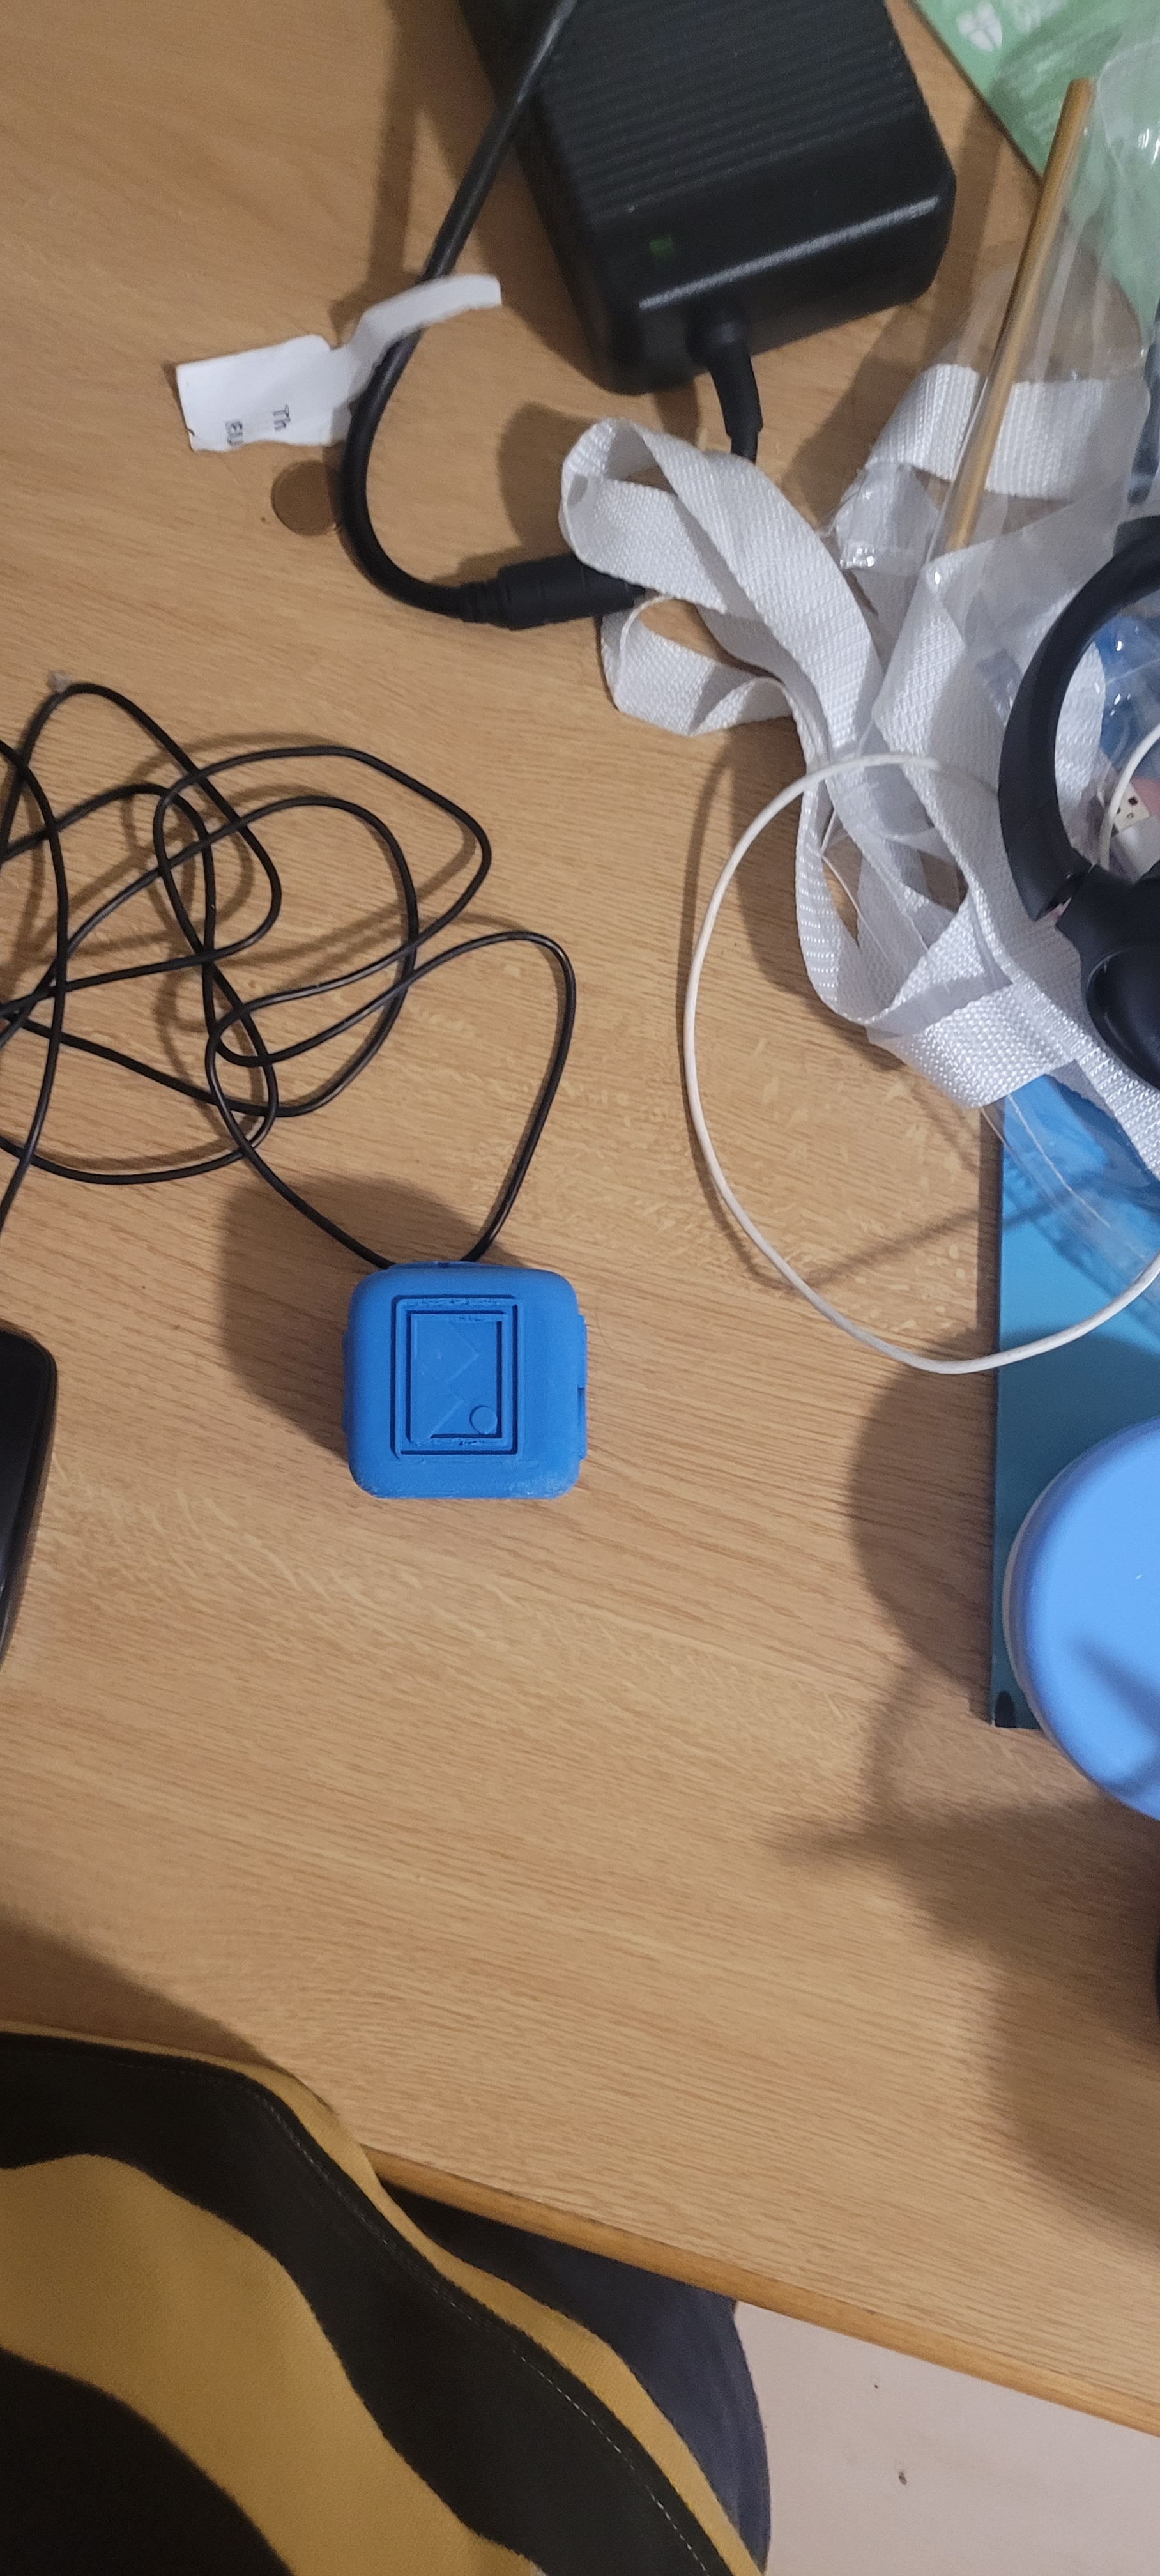Story: (373, 1275, 529, 1487)
